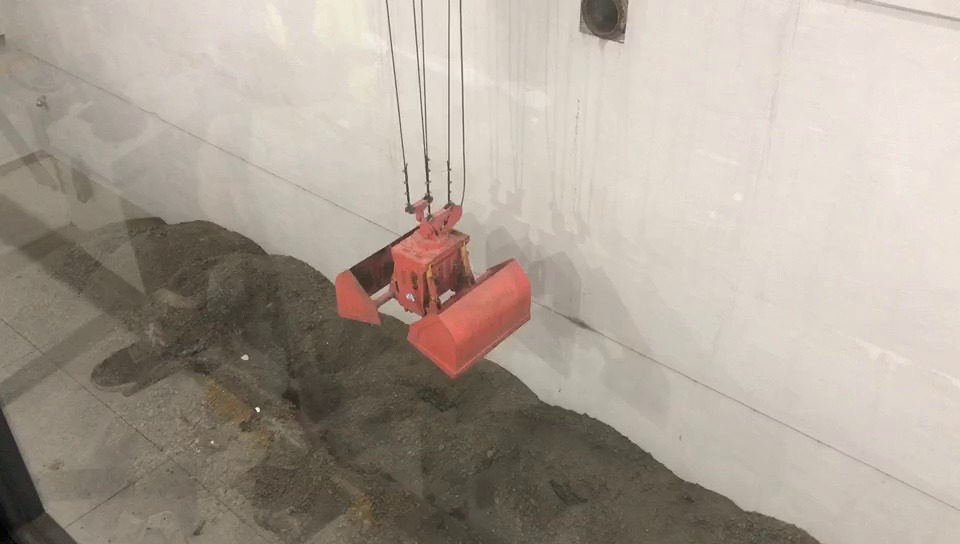grab: (332, 189, 534, 377)
